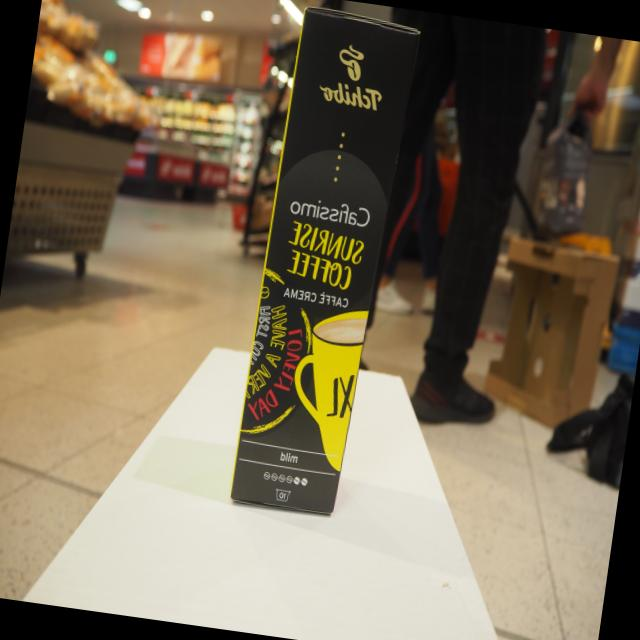Simo Sunrise: (229, 6, 423, 517)
